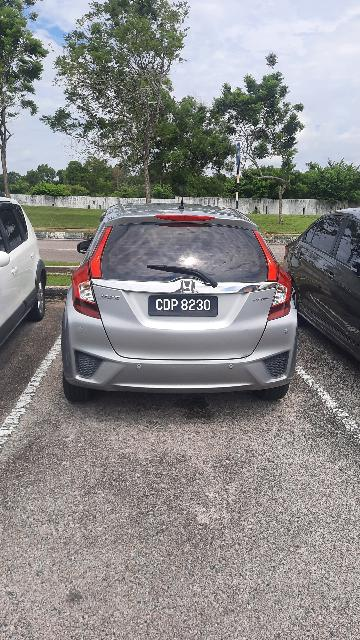License_Plate: (144, 291, 222, 320)
car: (62, 200, 300, 412)
